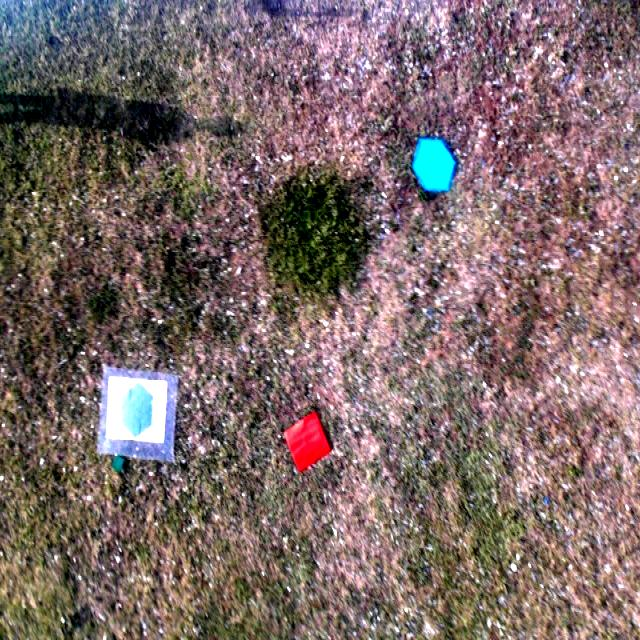blue_hexagon: (411, 138, 457, 194), (120, 386, 153, 436)
red_square: (286, 411, 332, 470)
